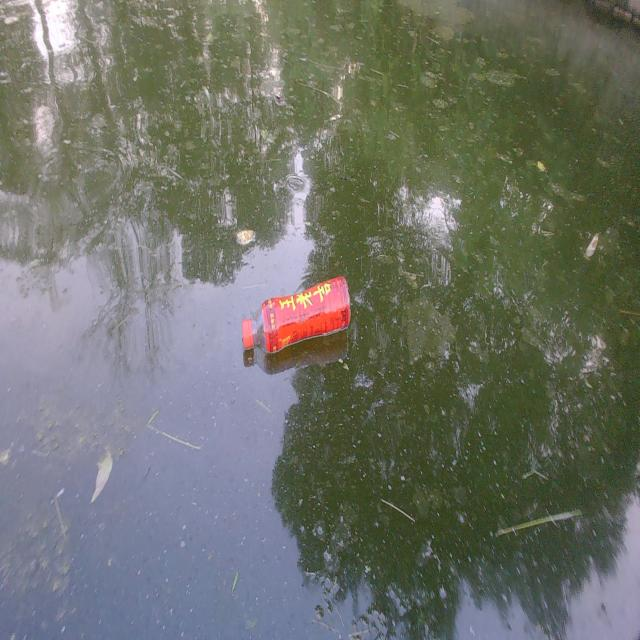Bottle: (239, 268, 353, 354)
